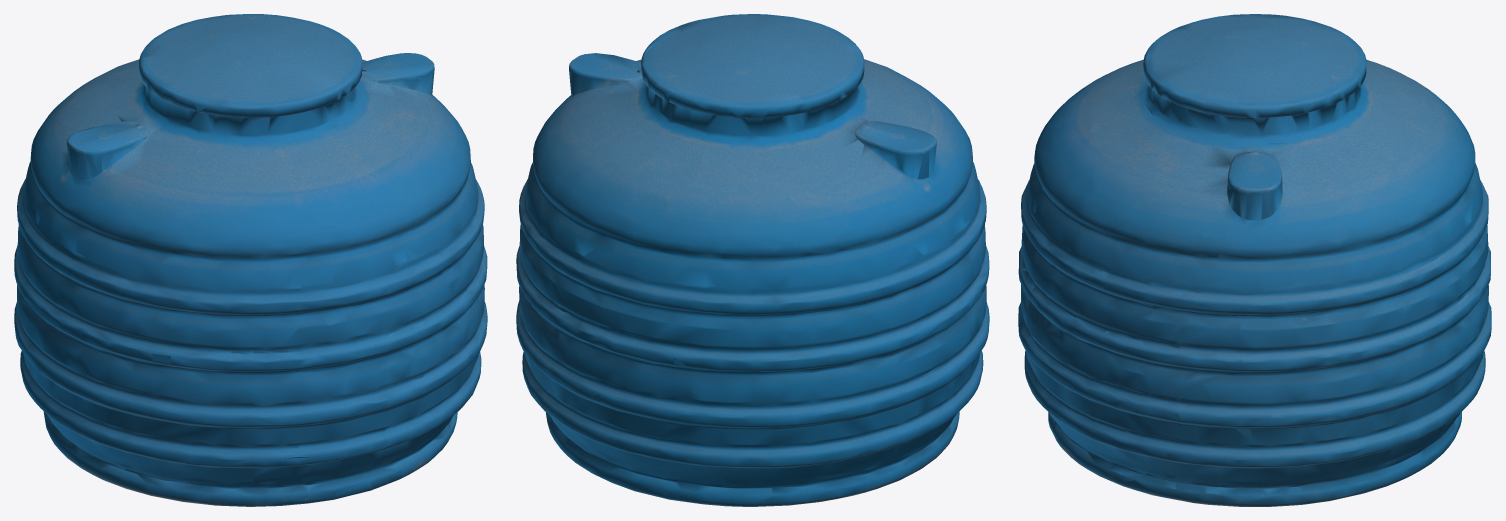
The model's file is caixa-dagua__01a163b9.glb.
The picture shows the model from 3 angles, left to right: view 1: azimuth 30°, elevation 25°; view 2: azimuth 150°, elevation 25°; view 3: azimuth 270°, elevation 25°; orthographic projection.
Visible parts, largest first — view 1: caixa-dagua__01a163b9; view 2: caixa-dagua__01a163b9; view 3: caixa-dagua__01a163b9.
Part boxes in pixels (x1,y1,x2,y2): caixa-dagua__01a163b9: (14, 14, 487, 506); caixa-dagua__01a163b9: (516, 14, 989, 506); caixa-dagua__01a163b9: (1018, 14, 1491, 506).
Size of the model in its own units: 1.26 by 1.1 by 1.26.
Materials: 1 (1 with a texture image).
